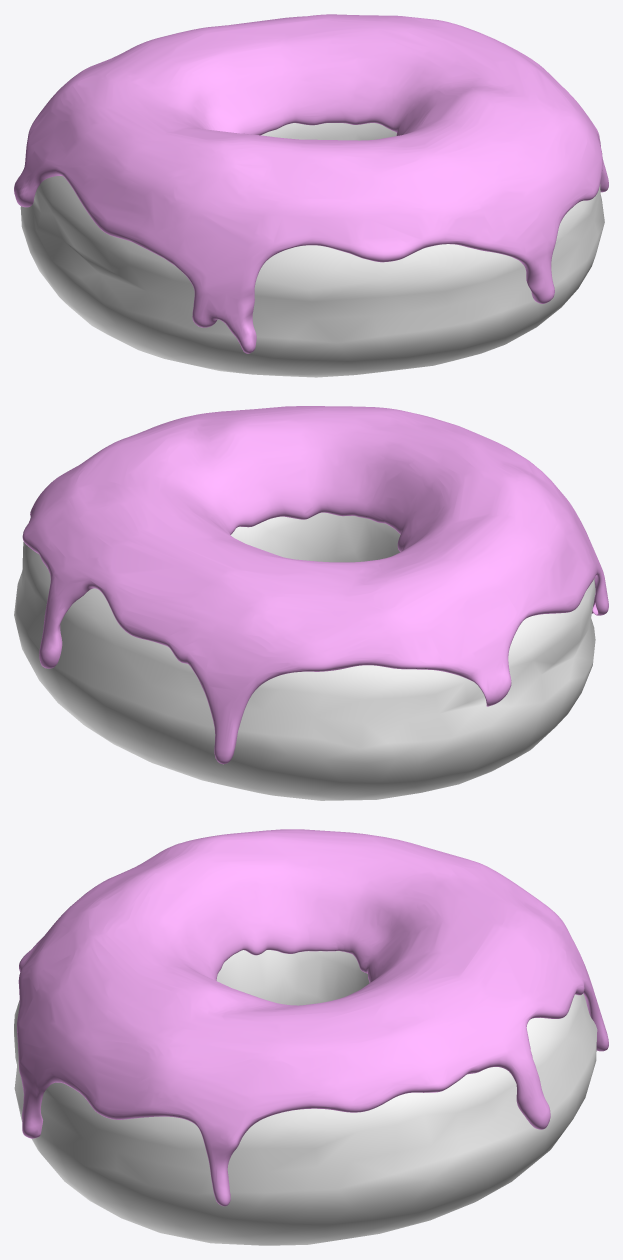
Rendered from Donat.glb.
3 views of the same model, one above another, from view 1: azimuth 30°, elevation 25°; view 2: azimuth 150°, elevation 25°; view 3: azimuth 270°, elevation 25° (orthographic). The views are drawn at different scales.
Parts seen in each view (by area): view 1: Icing.001, Donat.001; view 2: Icing.001, Donat.001; view 3: Icing.001, Donat.001.
Boxes of the visible parts, <box> form: Icing.001: <box>14,14,608,353</box>; Donat.001: <box>20,123,604,377</box>; Icing.001: <box>22,406,608,764</box>; Donat.001: <box>14,512,595,800</box>; Icing.001: <box>17,829,608,1206</box>; Donat.001: <box>14,950,597,1245</box>.
Size of the model in its own units: 0.1417 by 0.0611 by 0.1369.
